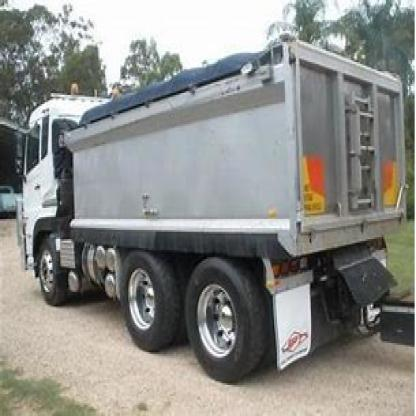dump_truck: (16, 31, 415, 374)
